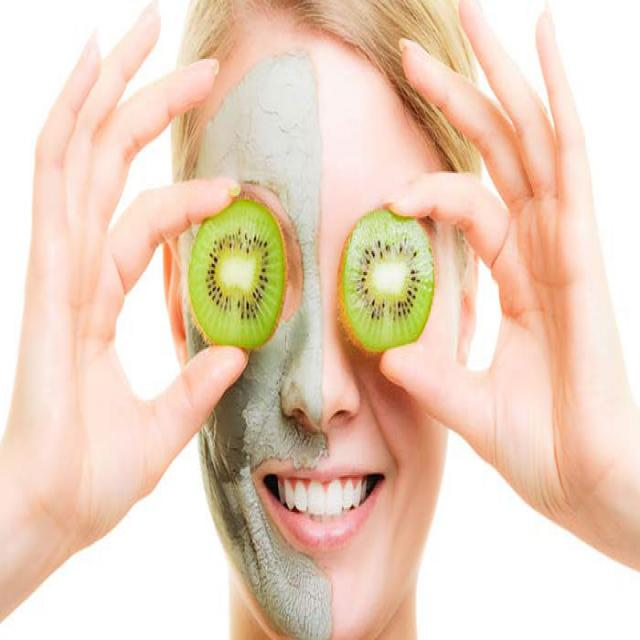kiwi: (188, 200, 289, 350), (337, 208, 436, 354)
